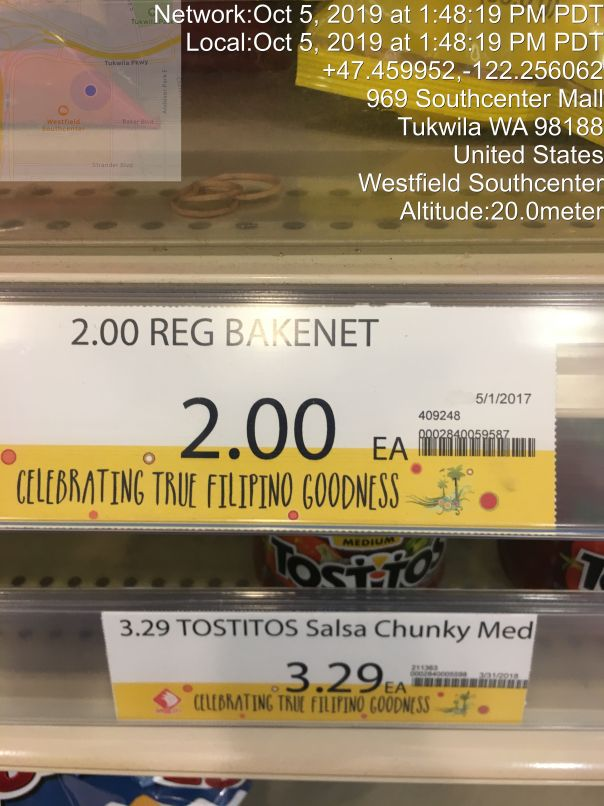Label: (14, 286, 582, 549)
Location: (362, 82, 604, 198)
Time: (135, 1, 604, 58)
Void: (11, 21, 376, 257)
